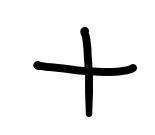plus: (33, 27, 137, 118)
